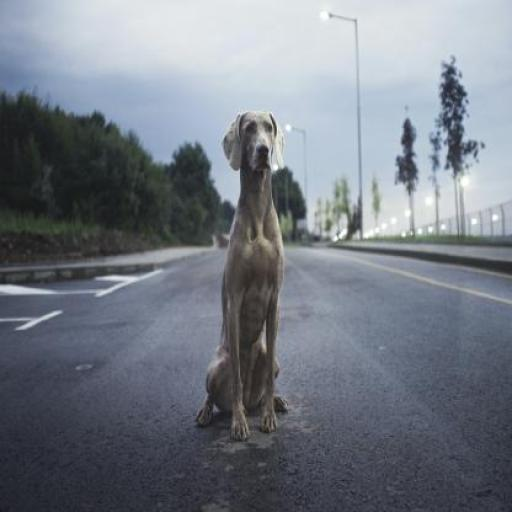street light: (320, 10, 364, 241), (285, 126, 309, 238), (424, 197, 438, 234), (462, 177, 470, 236), (405, 209, 414, 237)
